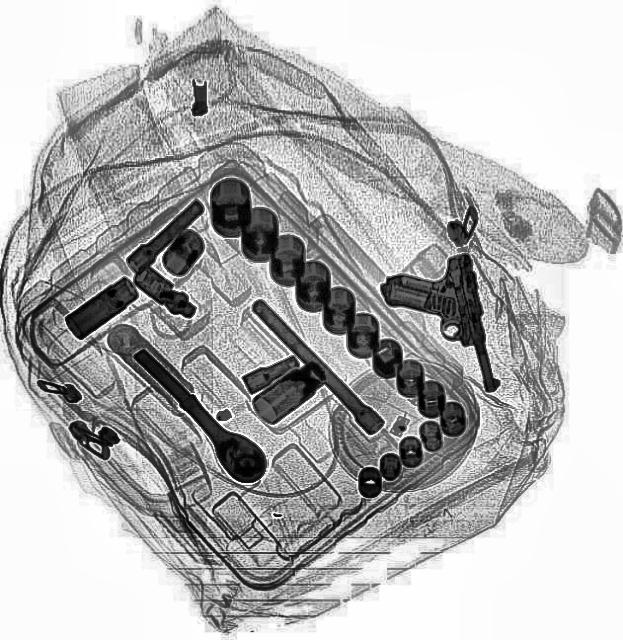Gun: (374, 251, 501, 407)
